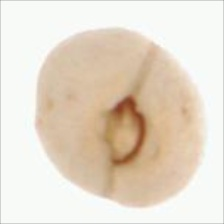L3: (102, 94, 144, 168)
L4: (35, 29, 206, 208)
